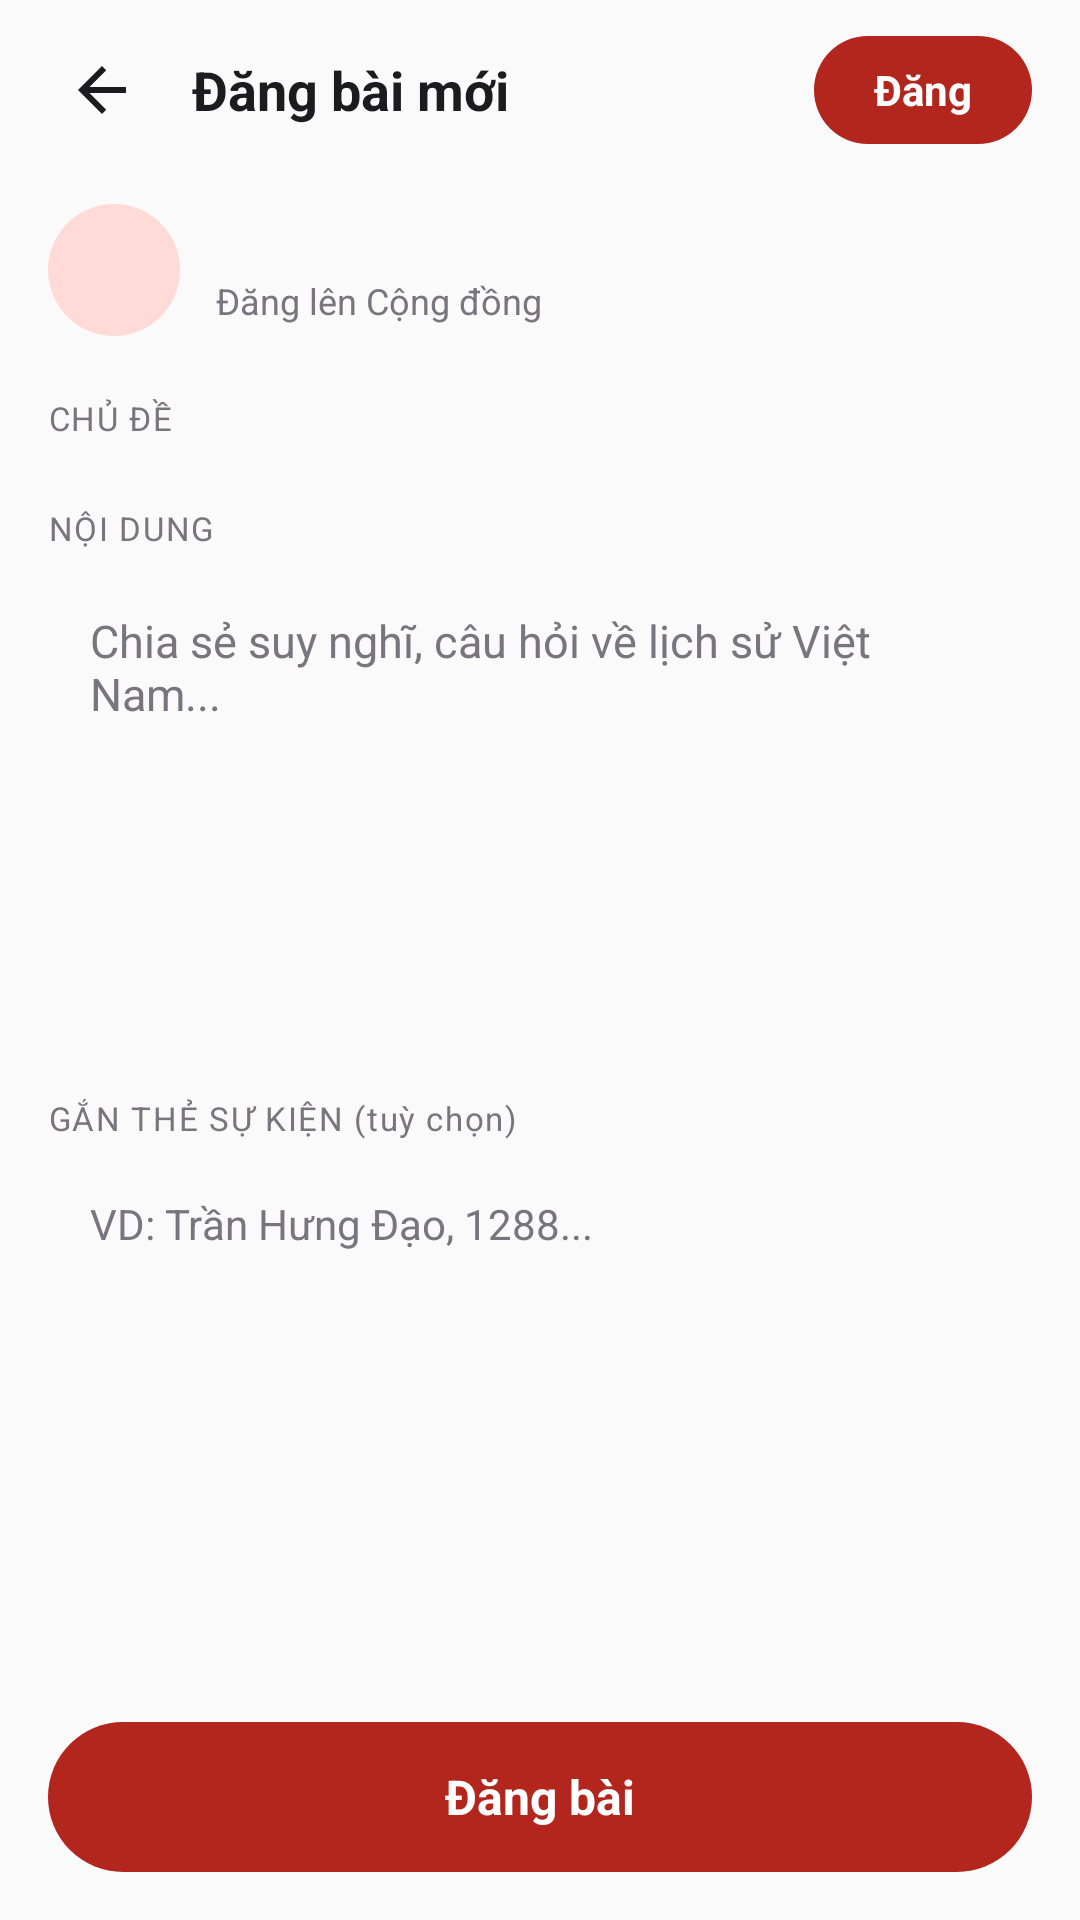

Screen size 1080x1920. Icon name, then its center in pixels as [x,y]:
arrow back: [102,90]
